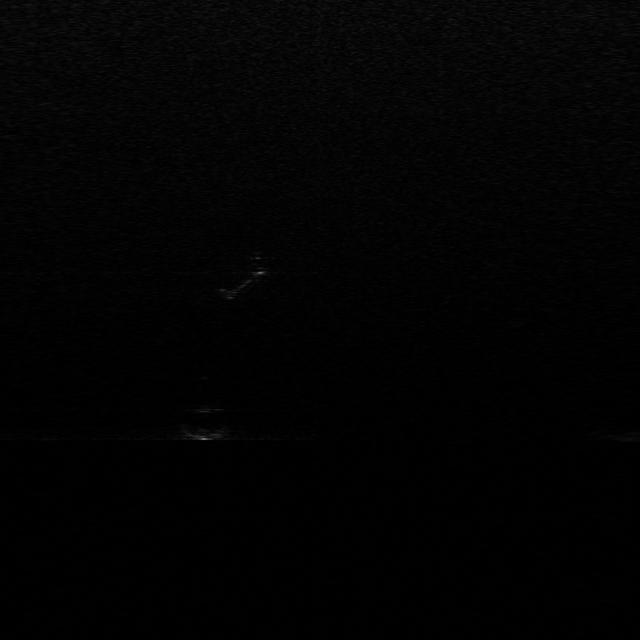ball: (174, 406, 238, 442)
tyre: (218, 261, 270, 302)
